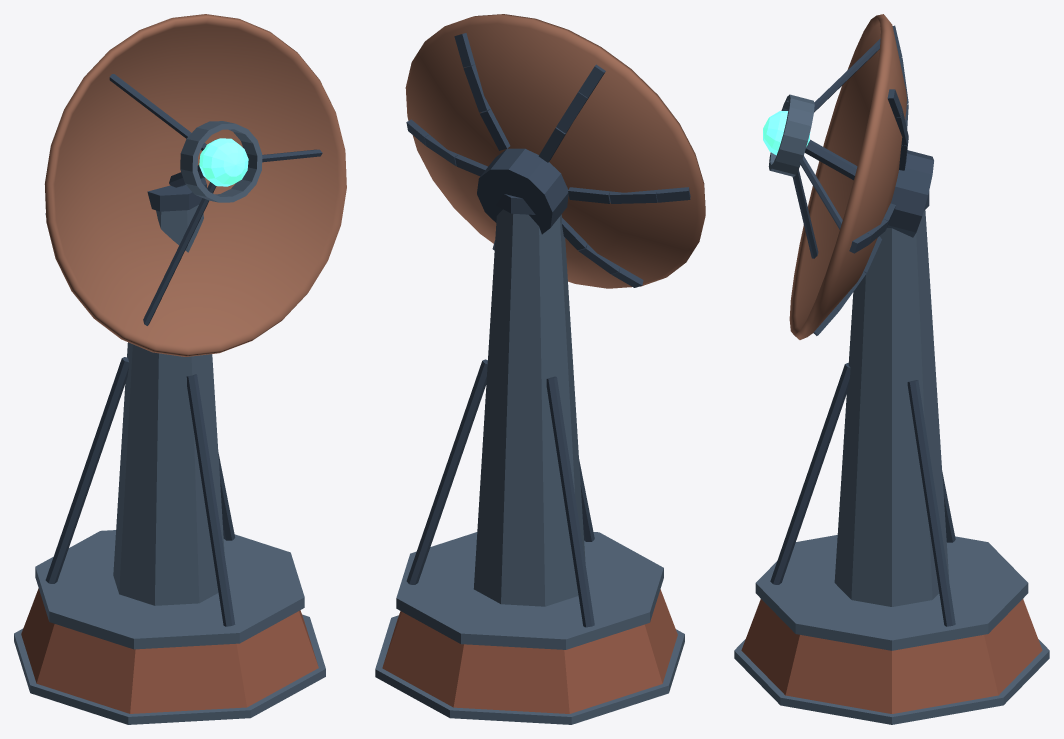
The model's file is radar.glb.
3 views of the same model, side by side, from view 1: azimuth 30°, elevation 25°; view 2: azimuth 150°, elevation 25°; view 3: azimuth 270°, elevation 25° (orthographic). The views are drawn at different scales.
Parts seen in each view (by area): view 1: dish_shell, mast, base_trim, base, mast_braces, feed_housing, dish_frame, emitter, mast_cap; view 2: dish_shell, mast, base_trim, base, dish_frame, mast_braces; view 3: mast, base_trim, base, dish_shell, dish_frame, mast_braces, feed_housing, emitter.
Boxes of the visible parts, <box> form: dish_shell: <box>44,14,346,356</box>; mast: <box>113,205,224,605</box>; base_trim: <box>14,530,325,724</box>; base: <box>21,588,318,713</box>; mast_braces: <box>45,357,235,626</box>; feed_housing: <box>180,121,262,202</box>; dish_frame: <box>45,74,322,325</box>; emitter: <box>199,138,248,186</box>; mast_cap: <box>147,177,206,211</box>; dish_shell: <box>405,14,705,288</box>; mast: <box>473,209,585,606</box>; base_trim: <box>375,532,684,724</box>; base: <box>382,589,677,713</box>; dish_frame: <box>406,33,690,287</box>; mast_braces: <box>406,359,594,627</box>; mast: <box>834,210,949,606</box>; base_trim: <box>734,535,1049,724</box>; base: <box>741,599,1042,713</box>; dish_shell: <box>789,14,906,339</box>; dish_frame: <box>792,25,933,335</box>; mast_braces: <box>770,363,955,626</box>; feed_housing: <box>768,94,814,176</box>; emitter: <box>763,111,810,155</box>.
Size of the model in its own units: 4.7 by 9.66 by 4.4.
